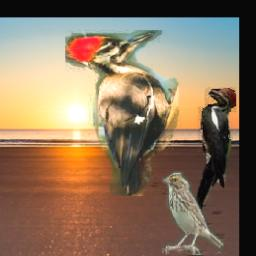Sparrow: (162, 172, 223, 256)
Woodpecker: (65, 30, 182, 196), (195, 87, 237, 214)
